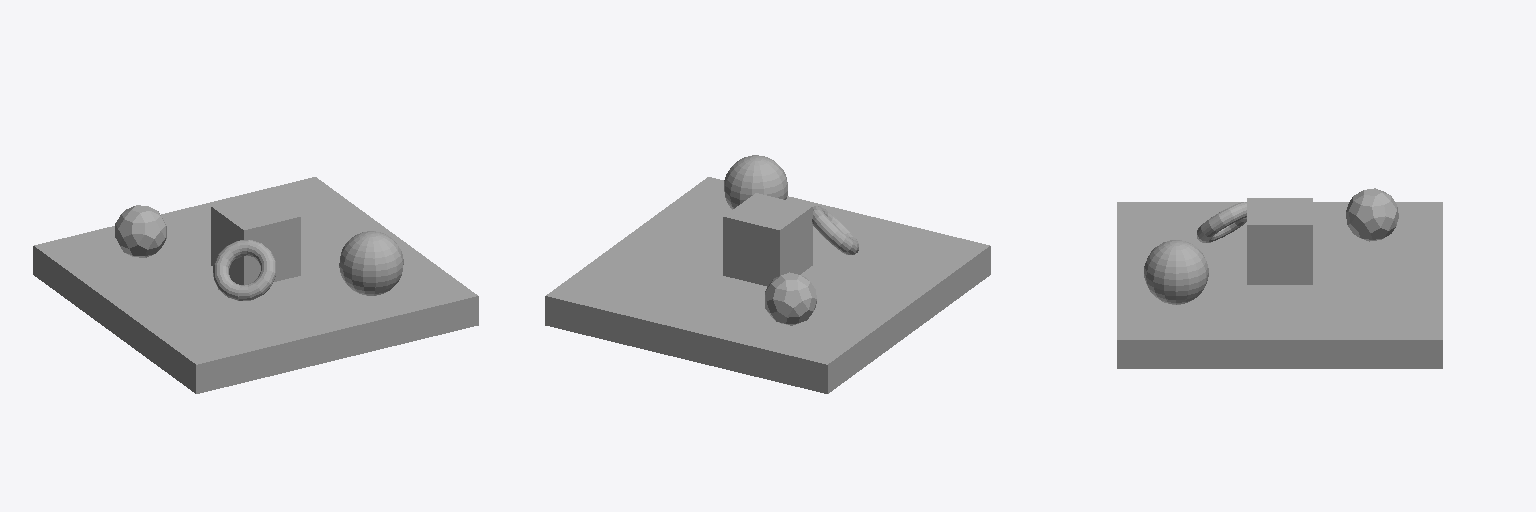
The model's file is BasicShapes.obj.
The picture shows the model from 3 angles: view 1: azimuth 30°, elevation 25°; view 2: azimuth 150°, elevation 25°; view 3: azimuth 270°, elevation 25°; orthographic projection.
Parts seen in each view (by area): view 1: polymsh; view 2: polymsh; view 3: polymsh.
Boxes of the visible parts, x1,y1,x2,y2 form: polymsh: [33, 177, 478, 393]; polymsh: [545, 155, 990, 393]; polymsh: [1117, 188, 1442, 368].
Size of the model in its own units: 40 by 12 by 40.